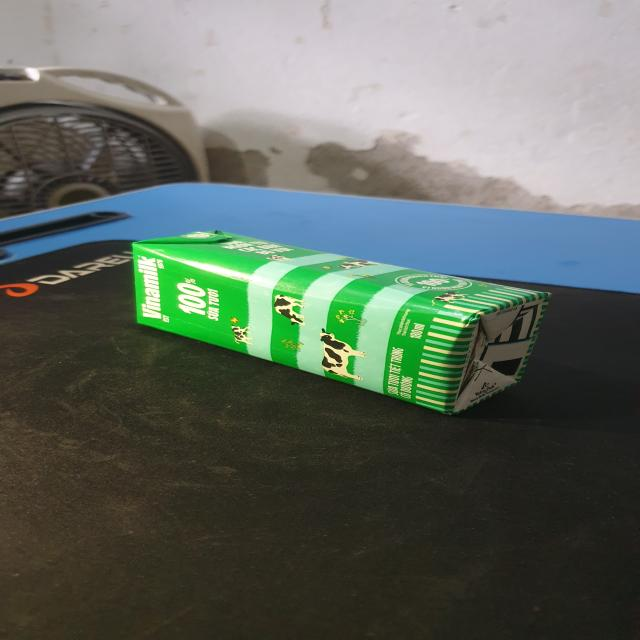Vina: (129, 228, 559, 421)
